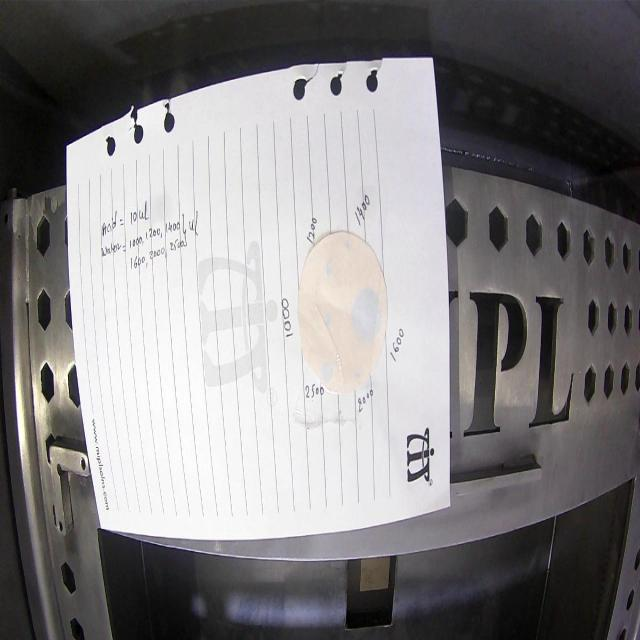BlueColor: (352, 287, 381, 342), (322, 364, 333, 383), (322, 312, 332, 327), (325, 262, 332, 276), (344, 239, 350, 251), (354, 369, 361, 379)
